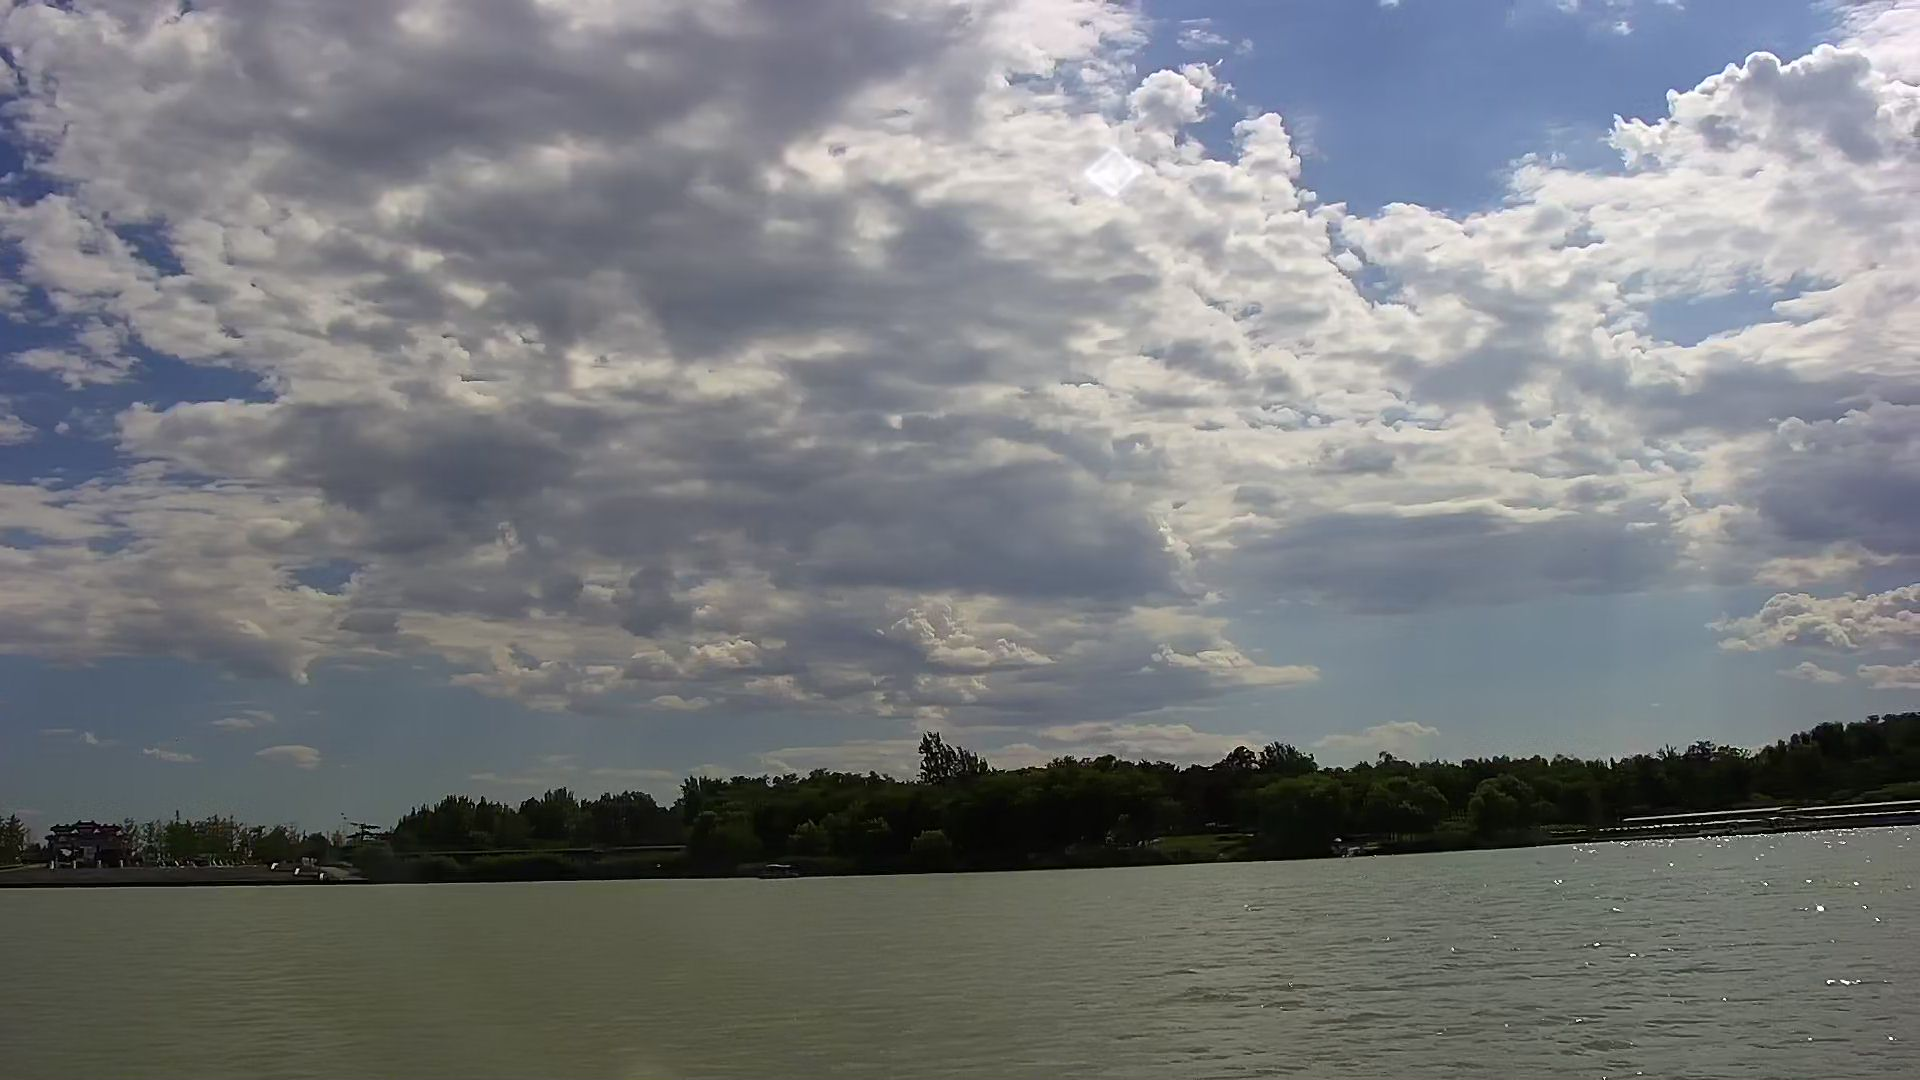harbor: (1600, 790, 1920, 840)
